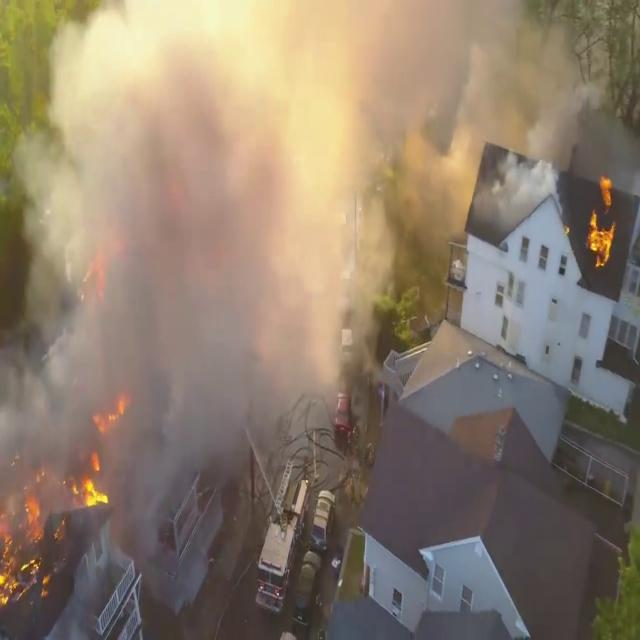Fire: (70, 391, 127, 512), (0, 484, 52, 610), (586, 171, 618, 270)
Smoke: (5, 0, 575, 360)
